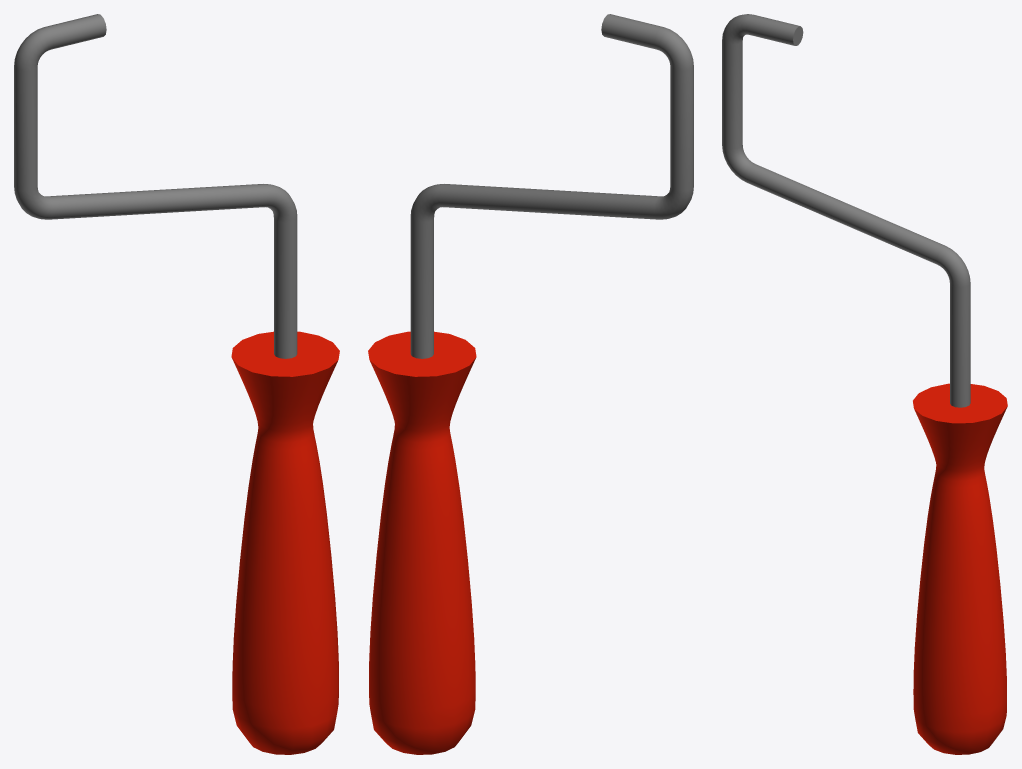
File: rulo_sap2.fbx
3 views of the same model, side by side, from view 1: azimuth 30°, elevation 25°; view 2: azimuth 150°, elevation 25°; view 3: azimuth 330°, elevation 25° (orthographic). The views are drawn at different scales.
Parts seen in each view (by area): view 1: Line006, Line005; view 2: Line006, Line005; view 3: Line006, Line005.
Boxes of the visible parts, x1,y1,x2,y2 form: Line006: (231,331,339,754); Line005: (14,14,297,358); Line006: (368,331,476,754); Line005: (410,14,693,358); Line006: (913,383,1007,754); Line005: (722,14,970,407).
Bounding box in the file's own units: 196 × 454 × 58.56.
